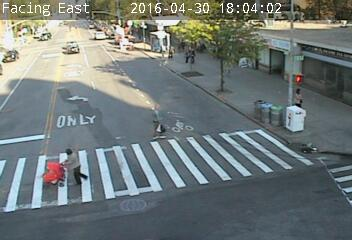neg: (205, 41, 230, 74), (170, 115, 192, 145), (62, 90, 83, 118), (1, 46, 18, 69), (252, 96, 268, 118), (63, 35, 78, 56), (188, 73, 203, 93), (144, 35, 158, 54), (239, 54, 251, 71), (113, 36, 125, 52)
pos: (51, 139, 91, 193), (145, 115, 168, 145), (291, 85, 308, 107), (164, 42, 179, 62), (189, 47, 200, 62), (183, 49, 193, 62)
